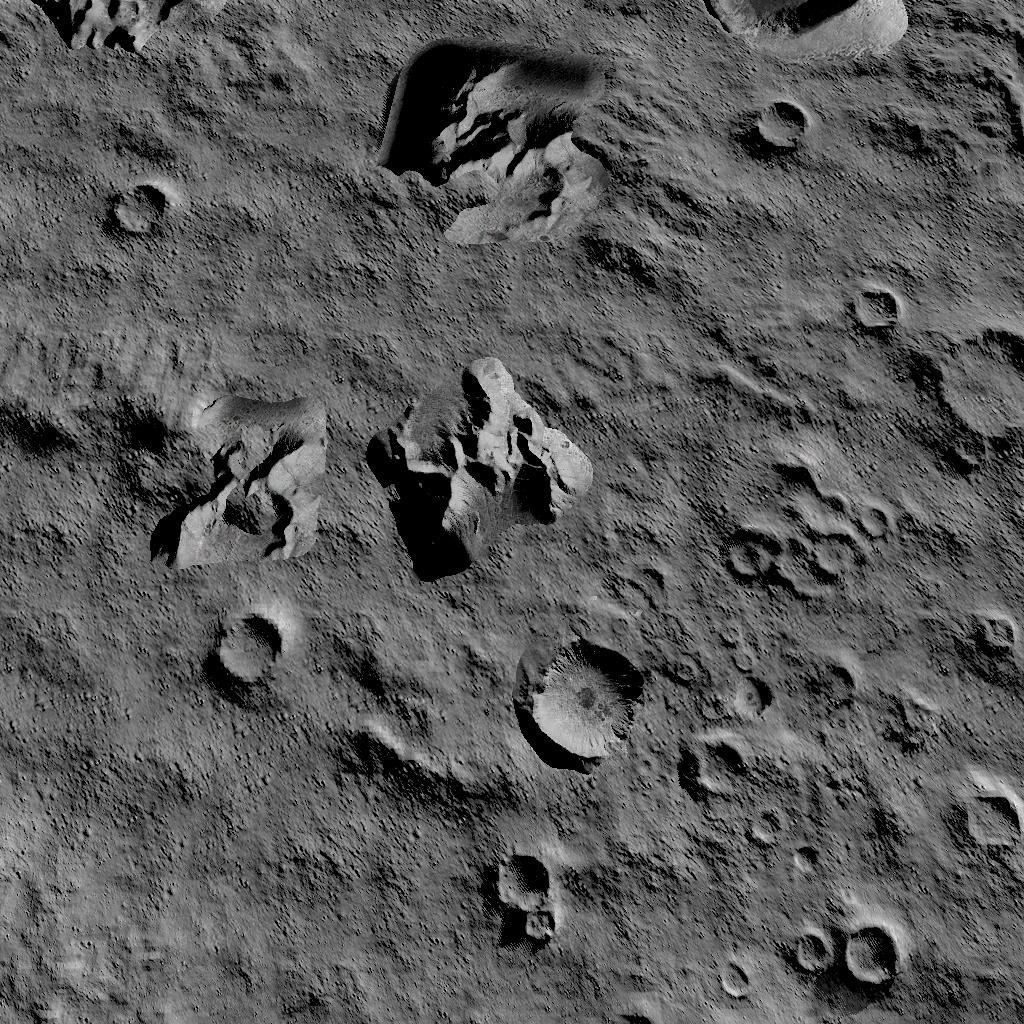Boulders: (384, 40, 710, 283), (0, 332, 326, 568), (371, 355, 593, 583), (33, 0, 248, 50)
Crater: (726, 458, 895, 596), (520, 635, 646, 770), (936, 318, 1024, 470), (786, 920, 908, 998), (491, 845, 563, 953), (208, 602, 286, 688), (686, 730, 755, 805), (963, 782, 1024, 862), (106, 175, 173, 238), (744, 95, 806, 153), (848, 280, 902, 343)
Plan surface: (0, 582, 198, 1024), (213, 812, 478, 1024), (188, 118, 370, 322), (723, 168, 1024, 268)
